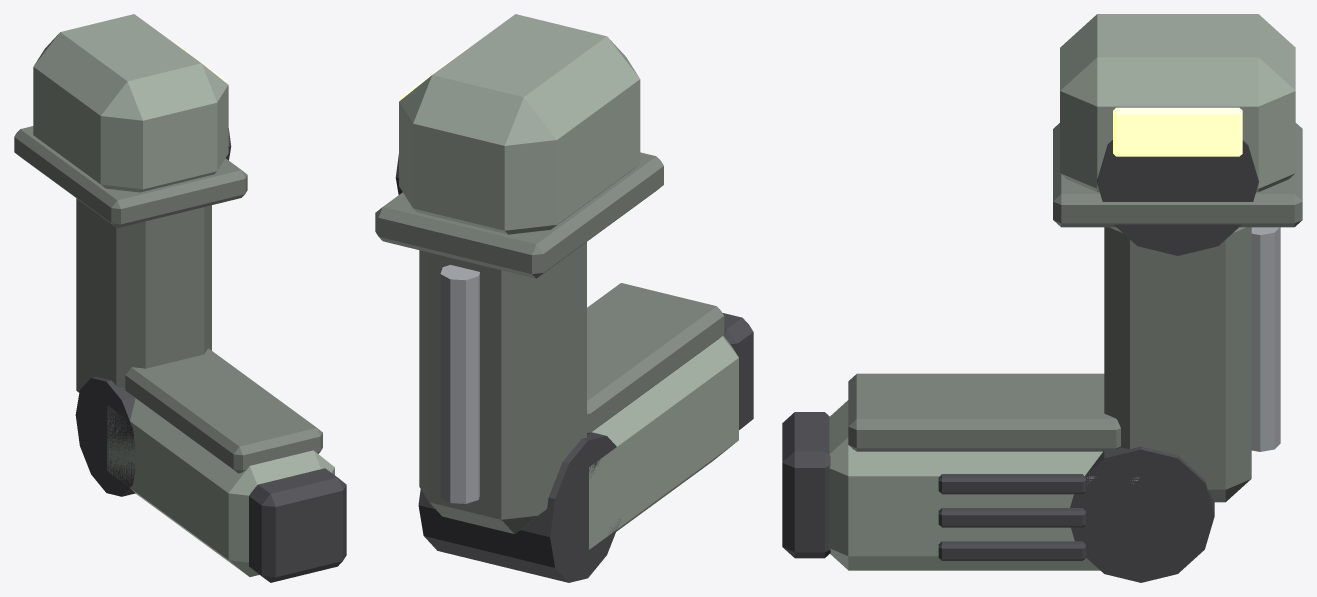
File: light-armL.glb
3 renders of one model, left to right at view 1: azimuth 30°, elevation 25°; view 2: azimuth 150°, elevation 25°; view 3: azimuth 270°, elevation 25°, orthographic. The views are drawn at different scales.
Visible parts, largest first — view 1: joint.forearm, armL, joint.pivot; view 2: joint.pivot, armL, joint.forearm; view 3: joint.pivot, joint.forearm, armL.
Part boxes in pixels (x1,y1,x2,y2): joint.forearm: (107,348,346,582); armL: (14,14,247,227); joint.pivot: (75,128,231,496); joint.pivot: (395,154,620,582); armL: (375,14,663,278); joint.forearm: (587,283,753,549); joint.pivot: (1070,140,1280,582); joint.forearm: (782,373,1139,570); armL: (1053,14,1302,227).
Bounding box in the file's own units: 0.534 × 1.52 × 1.41.
